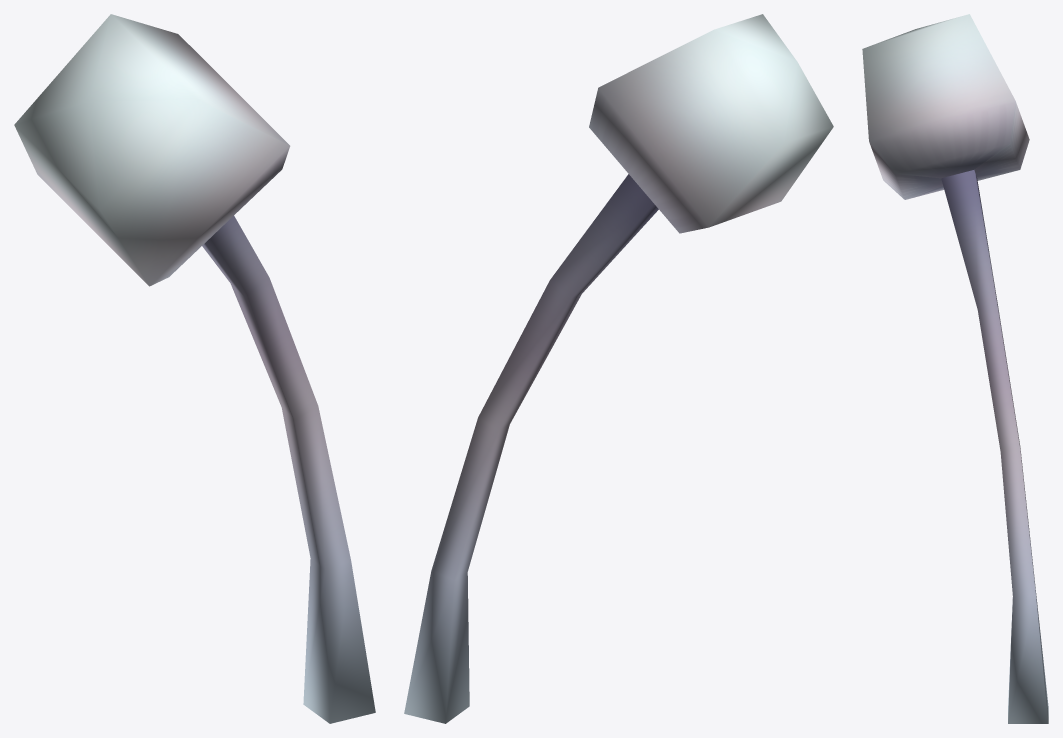
File: Shroom 3.FBX
3 views of the same model, side by side, from view 1: azimuth 30°, elevation 25°; view 2: azimuth 150°, elevation 25°; view 3: azimuth 270°, elevation 25° (orthographic). The views are drawn at different scales.
Visible parts, largest first — view 1: Shroom 3; view 2: Shroom 3; view 3: Shroom 3.
Part boxes in pixels (x1,y1,x2,y2): Shroom 3: [14, 14, 375, 723]; Shroom 3: [404, 14, 833, 723]; Shroom 3: [862, 14, 1048, 723].
Size of the model in its own units: 3.13 by 6.24 by 1.75.
